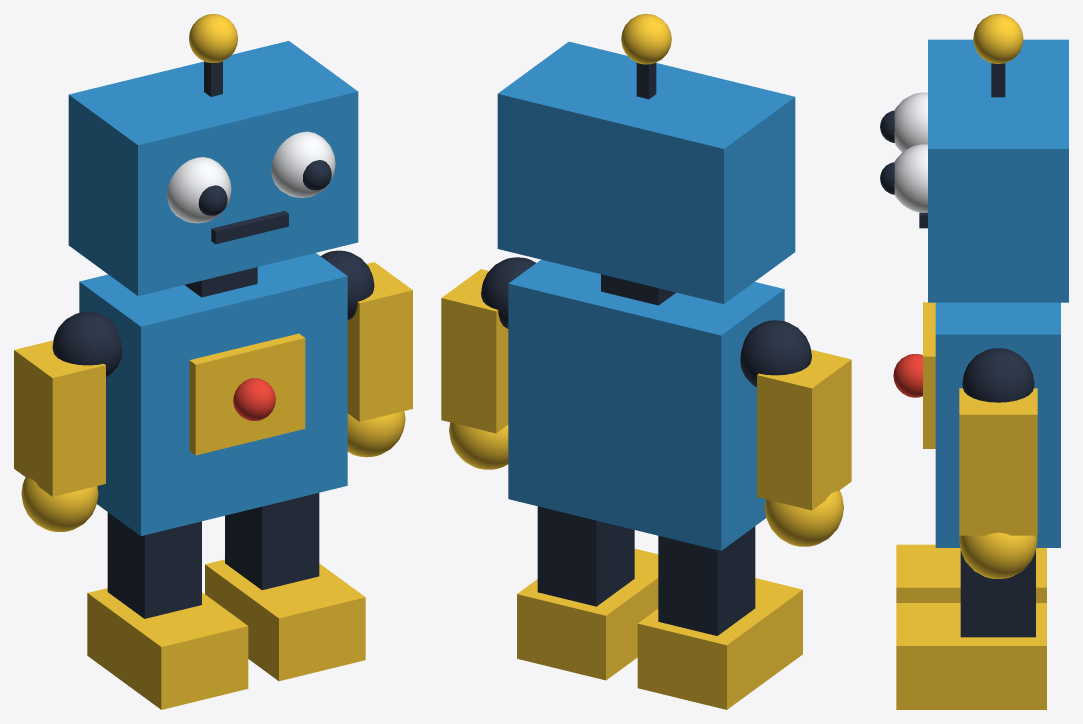
Rendered from Robo_simples.glb.
3 renders of one model, left to right at view 1: azimuth 30°, elevation 25°; view 2: azimuth 150°, elevation 25°; view 3: azimuth 270°, elevation 25°, orthographic. The views are drawn at different scales.
Visible parts, largest first — view 1: Cabeca, Corpo, Pe, Pe.001, Braco, Painel, Braco.001, Perna, Perna.001, Ombro, Mao, Olho branco (+10 smaller); view 2: Cabeca, Corpo, Pe, Braco, Pe.001, Braco.001, Perna, Perna.001, Ombro, Mao, Mao.001, Ponta da antena (+3 smaller); view 3: Cabeca, Corpo, Pe.001, Braco.001, Perna.001, Pe, Ombro.001, Mao.001, Olho branco.001, Ponta da antena, Painel, Olho branco (+4 smaller).
Part boxes in pixels (left/top/right/bottom): Cabeca: left=68, top=41, right=358, bottom=295; Corpo: left=79, top=253, right=347, bottom=535; Pe: left=87, top=588, right=248, bottom=709; Pe.001: left=205, top=559, right=365, bottom=681; Braco: left=14, top=340, right=105, bottom=496; Painel: left=189, top=333, right=305, bottom=455; Braco.001: left=347, top=262, right=412, bottom=421; Perna: left=107, top=512, right=201, bottom=618; Perna.001: left=225, top=493, right=319, bottom=590; Ombro: left=52, top=312, right=122, bottom=376; Mao: left=21, top=477, right=98, bottom=531; Olho branco: left=167, top=157, right=231, bottom=223; Cabeca: left=497, top=41, right=795, bottom=303; Corpo: left=508, top=259, right=784, bottom=550; Pe: left=637, top=578, right=802, bottom=709; Braco: left=757, top=349, right=851, bottom=510; Pe.001: left=517, top=548, right=658, bottom=680; Braco.001: left=441, top=269, right=508, bottom=433; Perna: left=658, top=526, right=755, bottom=635; Perna.001: left=537, top=506, right=634, bottom=606; Ombro: left=740, top=320, right=811, bottom=387; Mao: left=764, top=490, right=843, bottom=546; Mao.001: left=449, top=422, right=508, bottom=469; Ponta da antena: left=621, top=14, right=671, bottom=64; Cabeca: left=928, top=39, right=1068, bottom=302; Corpo: left=935, top=302, right=1060, bottom=547; Pe.001: left=896, top=603, right=1046, bottom=709; Braco.001: left=959, top=388, right=1037, bottom=535; Perna.001: left=960, top=550, right=1035, bottom=637; Pe: left=896, top=544, right=1046, bottom=602; Ombro.001: left=962, top=348, right=1034, bottom=402; Mao.001: left=959, top=532, right=1037, bottom=578; Olho branco.001: left=894, top=144, right=927, bottom=212; Ponta da antena: left=973, top=14, right=1023, bottom=63; Painel: left=923, top=302, right=935, bottom=448; Olho branco: left=894, top=92, right=927, bottom=152.
Size of the model in its own units: 2.8 by 4.52 by 1.2.
